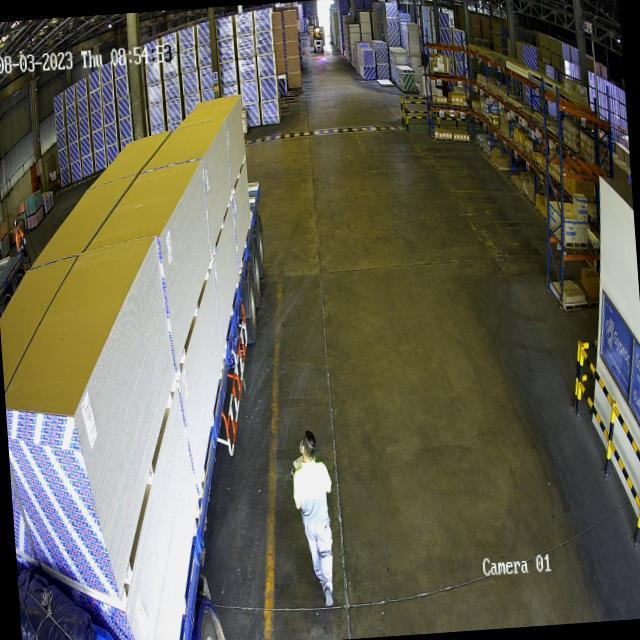person: (280, 423, 348, 620), (13, 222, 26, 252)
